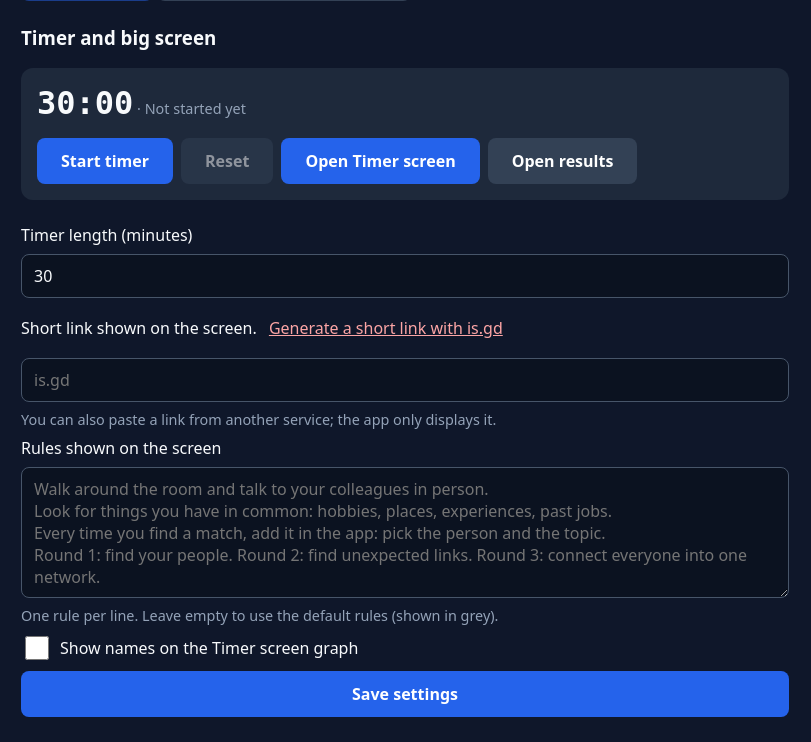
Timer and screen settings (admin page) › shows a short message and keeps the text box when is.gd is not available
This screenshot has width=811, height=742.
(page scrolled)
Type "aka.ms/mine" into the field labelled "Short link shown on the screen." at (405, 380), box [21,358,789,402]
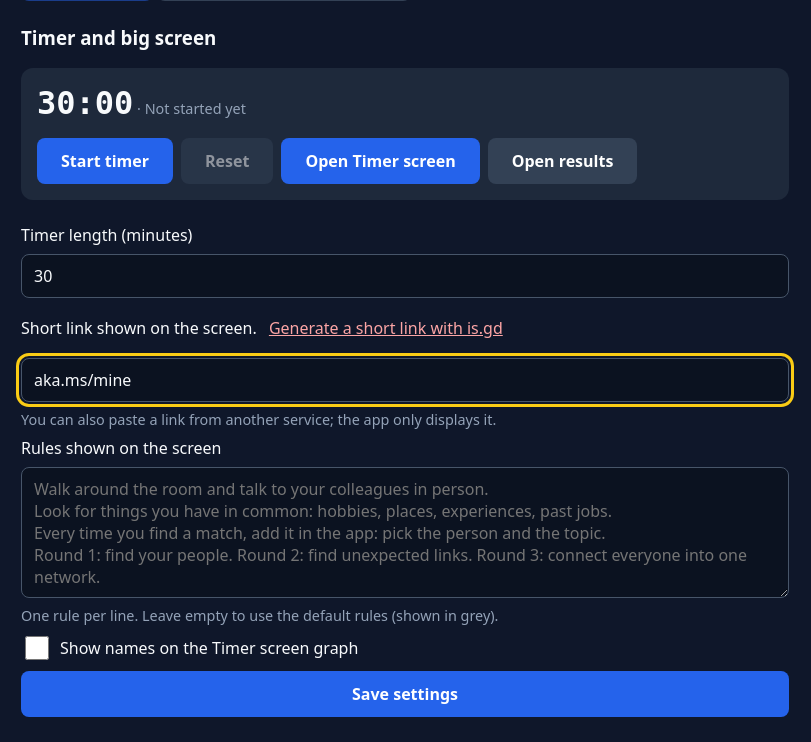
Click the button "Generate a short link with is.gd" at (386, 328), box [261,306,511,350]
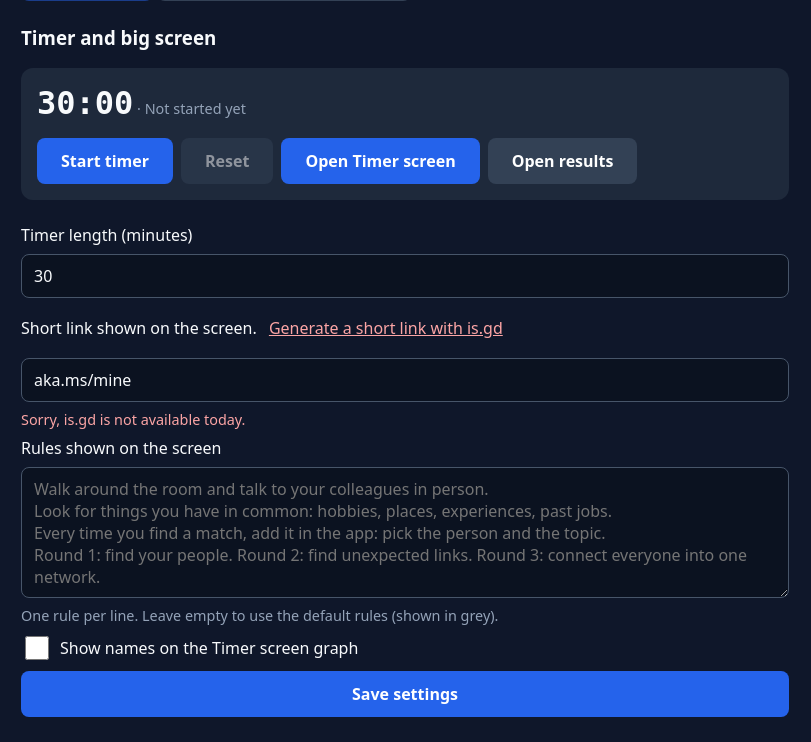
expect the text "Sorry, is.gd is not available today." is shown: met, box [21,410,246,429]
